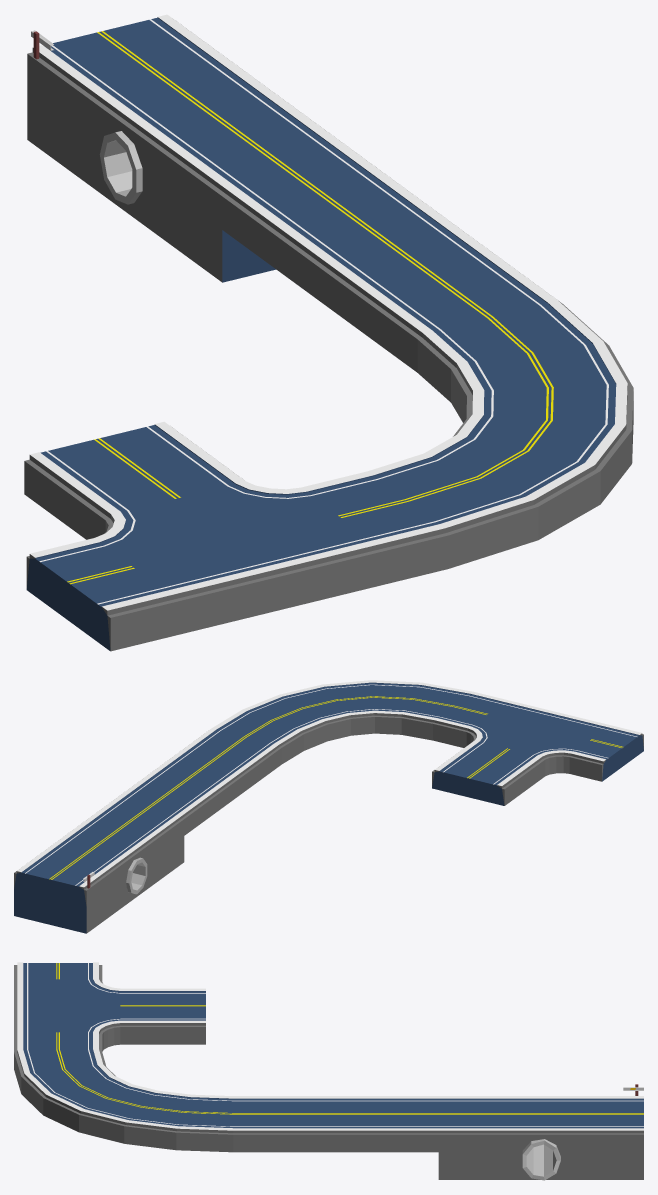
The model's file is SM_Road.fbx.
3 views of the same model, one above another, from view 1: azimuth 30°, elevation 25°; view 2: azimuth 150°, elevation 25°; view 3: azimuth 270°, elevation 25° (orthographic). The views are drawn at different scales.
Parts seen in each view (by area): view 1: Intersection_T, Straight_Pipe, Turn_90, Straight; view 2: Intersection_T, Straight_Pipe, Turn_90, Straight; view 3: Straight_Pipe, Turn_90, Intersection_T, Straight.
Part boxes in pixels (box(x1,y1,x2,y2)): Intersection_T: box(24, 421, 448, 651); Straight_Pipe: box(27, 14, 366, 282); Turn_90: box(368, 300, 633, 568); Straight: box(222, 157, 562, 372); Intersection_T: box(432, 691, 643, 805); Straight_Pipe: box(14, 799, 184, 933); Turn_90: box(212, 680, 472, 764); Straight: box(114, 728, 281, 835); Straight_Pipe: box(438, 1096, 643, 1180); Turn_90: box(14, 1049, 233, 1152); Intersection_T: box(14, 962, 205, 1051); Straight: box(233, 1096, 438, 1152).
Bounding box in the file's own units: 2404 × 373 × 3638.
